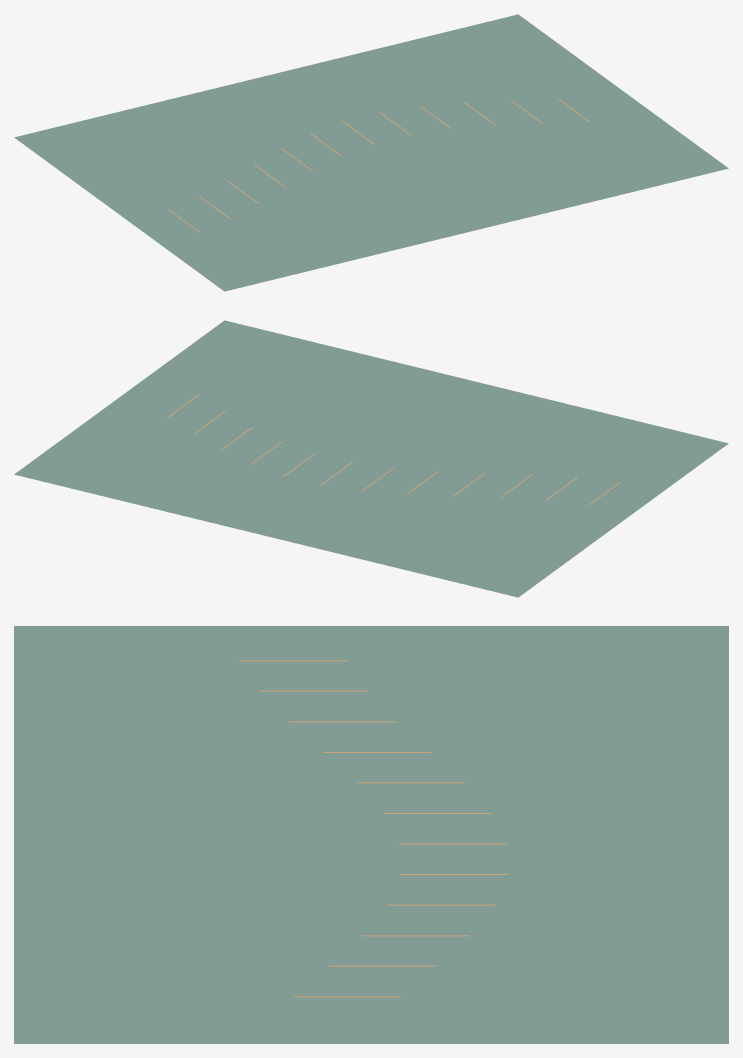
Rendered from 297_L120_L32_LayerReference.glb.
3 views of the same model, one above another, from view 1: azimuth 30°, elevation 25°; view 2: azimuth 150°, elevation 25°; view 3: azimuth 270°, elevation 25° (orthographic). The views are drawn at different scales.
Visible parts, largest first — view 1: 0000__PSMAT__dielectric; view 2: 0000__PSMAT__dielectric; view 3: 0000__PSMAT__dielectric.
Part boxes in pixels (bbox=[...]): 0000__PSMAT__dielectric: bbox=[14, 14, 728, 291]; 0000__PSMAT__dielectric: bbox=[14, 320, 728, 597]; 0000__PSMAT__dielectric: bbox=[14, 626, 728, 1043].
Bounding box in the file's own units: 0.506 × 2.8e-05 × 0.366.
